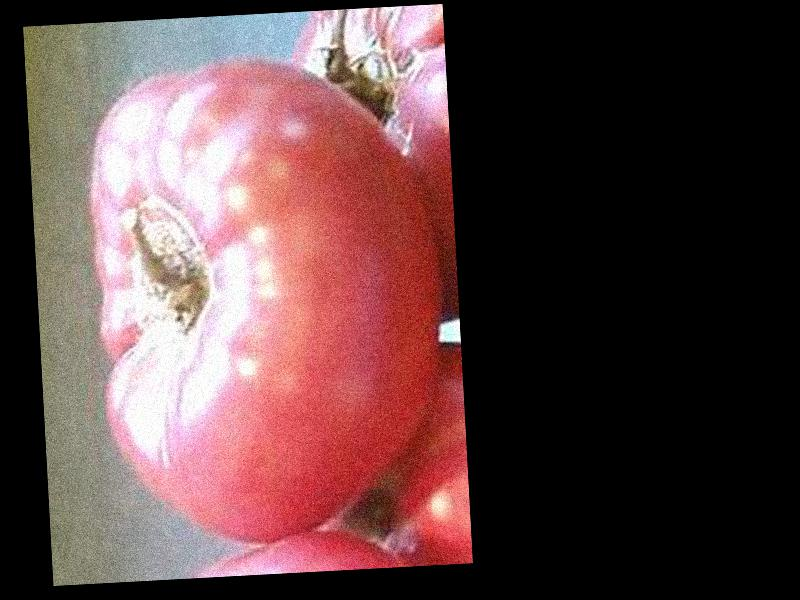Tomato: (82, 47, 452, 555)
